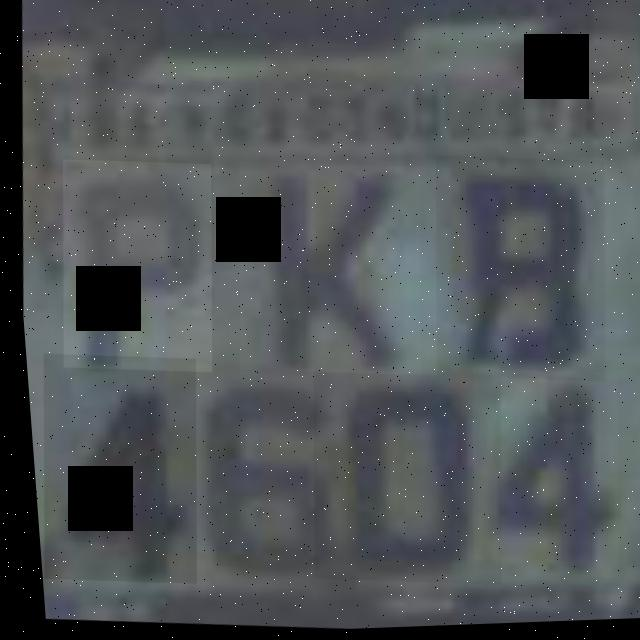0: (292, 368, 506, 594)
4: (22, 349, 203, 589), (452, 367, 622, 586)
6: (133, 350, 360, 605)
B: (417, 154, 614, 390)
K: (222, 157, 429, 383)
P: (45, 155, 220, 377)
